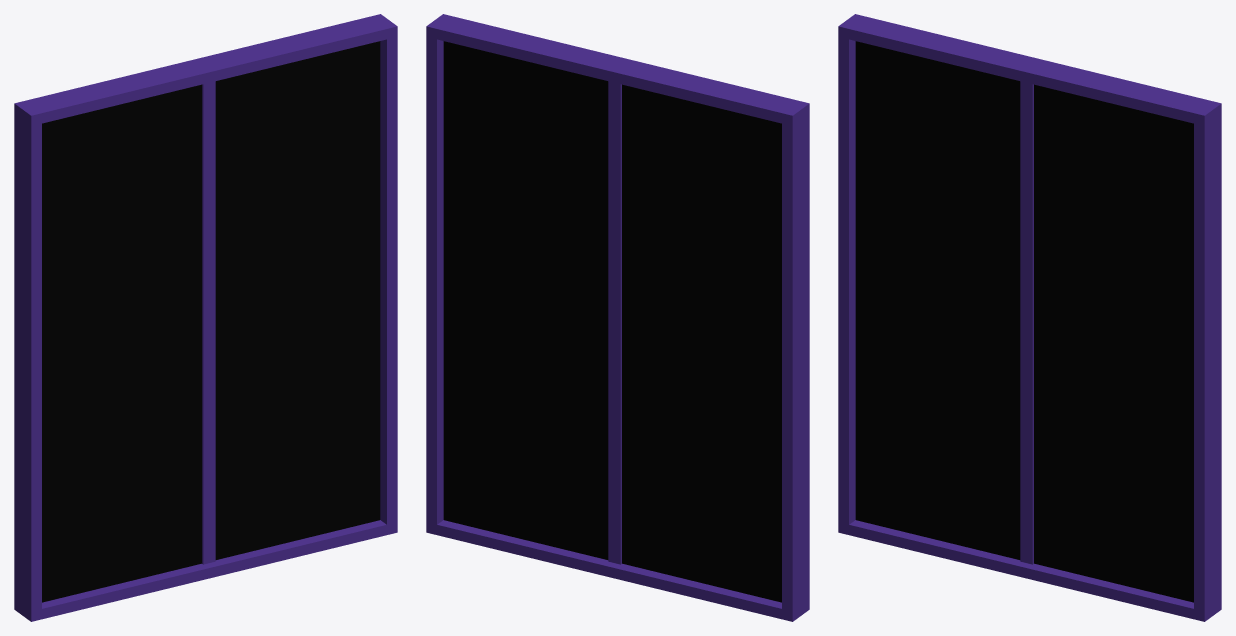
The model's file is seperator_glass.fbx.
3 renders of one model, left to right at view 1: azimuth 30°, elevation 25°; view 2: azimuth 150°, elevation 25°; view 3: azimuth 330°, elevation 25°, orthographic.
Visible parts, largest first — view 1: glass4, wall_frame; view 2: glass4, wall_frame; view 3: glass4, wall_frame.
Part boxes in pixels (box(x1,y1,x2,y2)): glass4: box(42, 41, 380, 602); wall_frame: box(14, 14, 397, 621); glass4: box(443, 41, 781, 602); wall_frame: box(426, 14, 809, 621); glass4: box(855, 41, 1193, 602); wall_frame: box(838, 14, 1221, 621).
Size of the model in its own units: 211 by 279 by 16.89.
